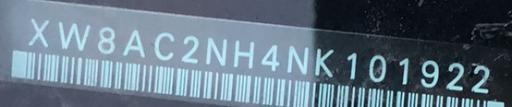letter: (52, 19, 90, 52), (440, 59, 466, 96), (282, 43, 310, 76), (254, 42, 282, 73), (310, 45, 338, 76), (176, 30, 200, 65), (230, 36, 254, 71), (338, 45, 362, 80), (389, 52, 413, 87), (468, 61, 492, 96), (120, 26, 144, 59), (24, 17, 50, 47), (91, 25, 117, 54), (204, 35, 230, 64), (362, 52, 388, 81), (152, 31, 176, 62), (414, 58, 438, 87)
